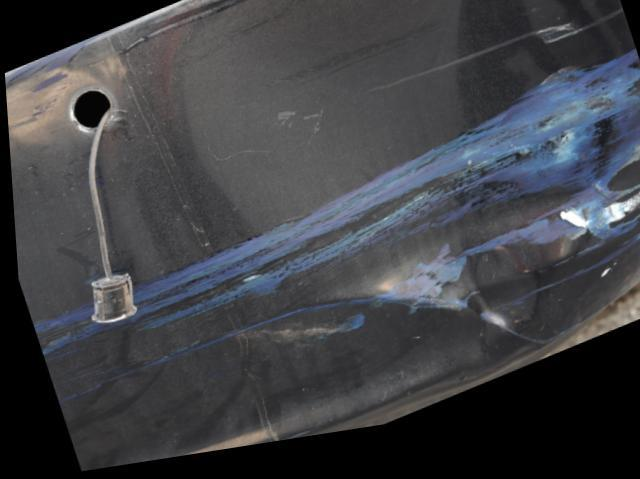dent: (183, 0, 638, 344)
no part: (68, 91, 109, 130)
scratch: (29, 236, 379, 419), (4, 0, 242, 133), (527, 66, 640, 318)
